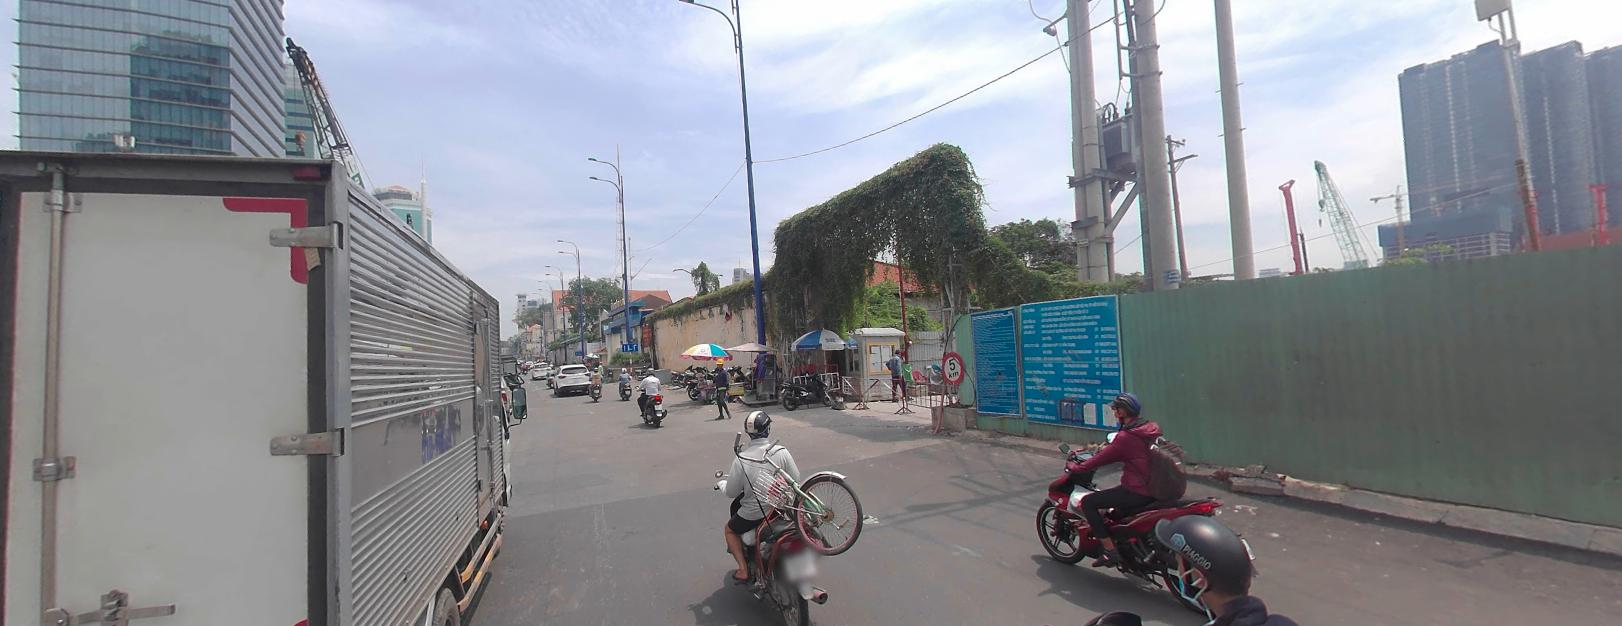Cam con lai: (940, 350, 963, 383)
